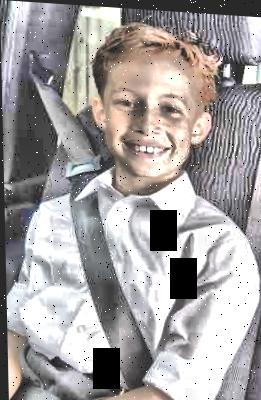seatbelt: (28, 67, 164, 386)
